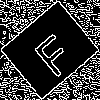F: (25, 25, 78, 80)
